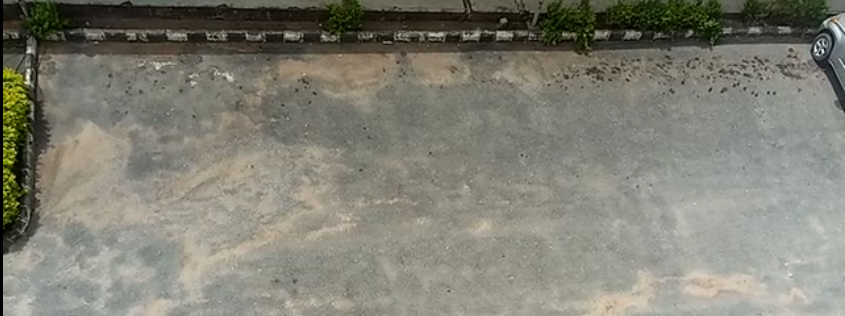four: (602, 2, 737, 231)
one: (9, 8, 180, 243)
three: (407, 12, 543, 228)
two: (231, 6, 367, 238)
